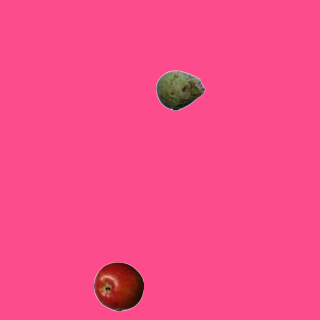Apple Braeburn: (93, 261, 143, 311)
Pear Stone: (155, 65, 205, 115)
